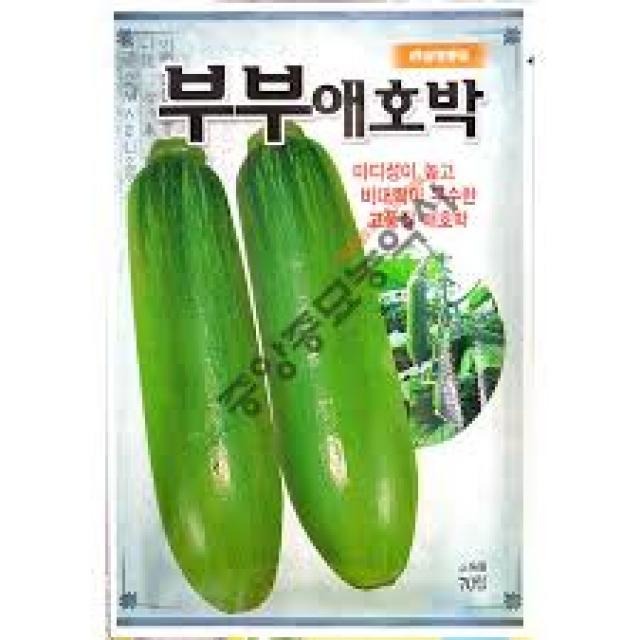Yogurt cup: (128, 139, 284, 614)
